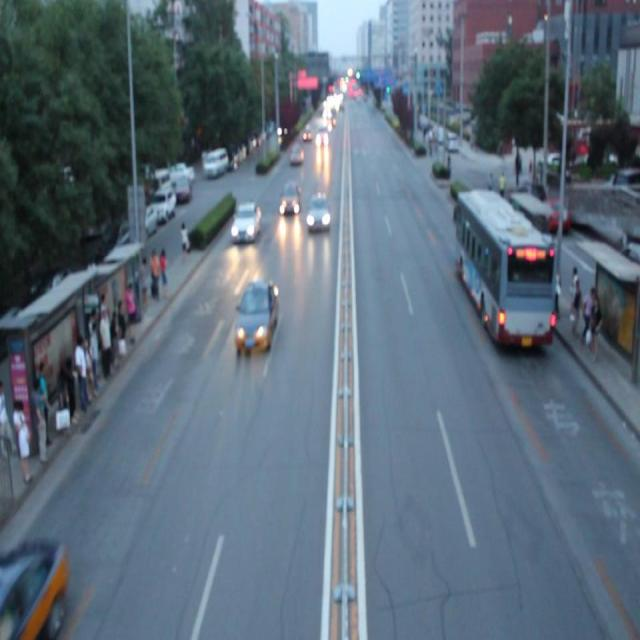car: (1, 533, 68, 640), (235, 281, 277, 357), (232, 201, 262, 243), (308, 192, 332, 238), (278, 178, 300, 216), (288, 142, 303, 166)
van: (454, 190, 552, 344)
